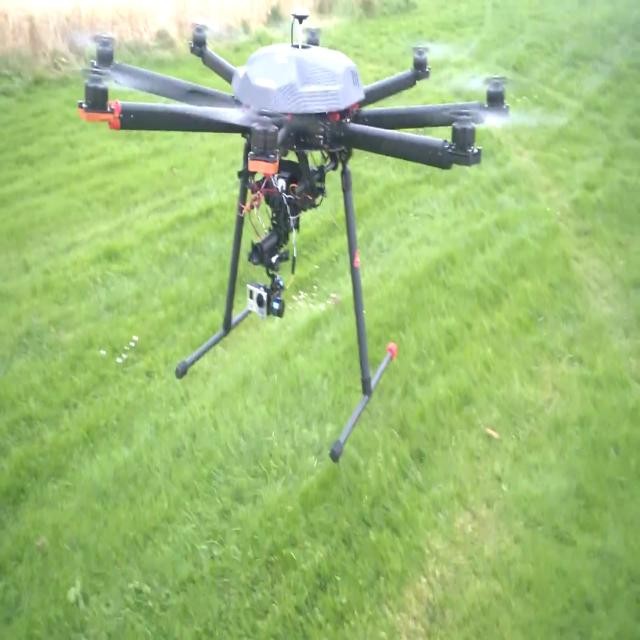drone: (71, 0, 513, 477)
